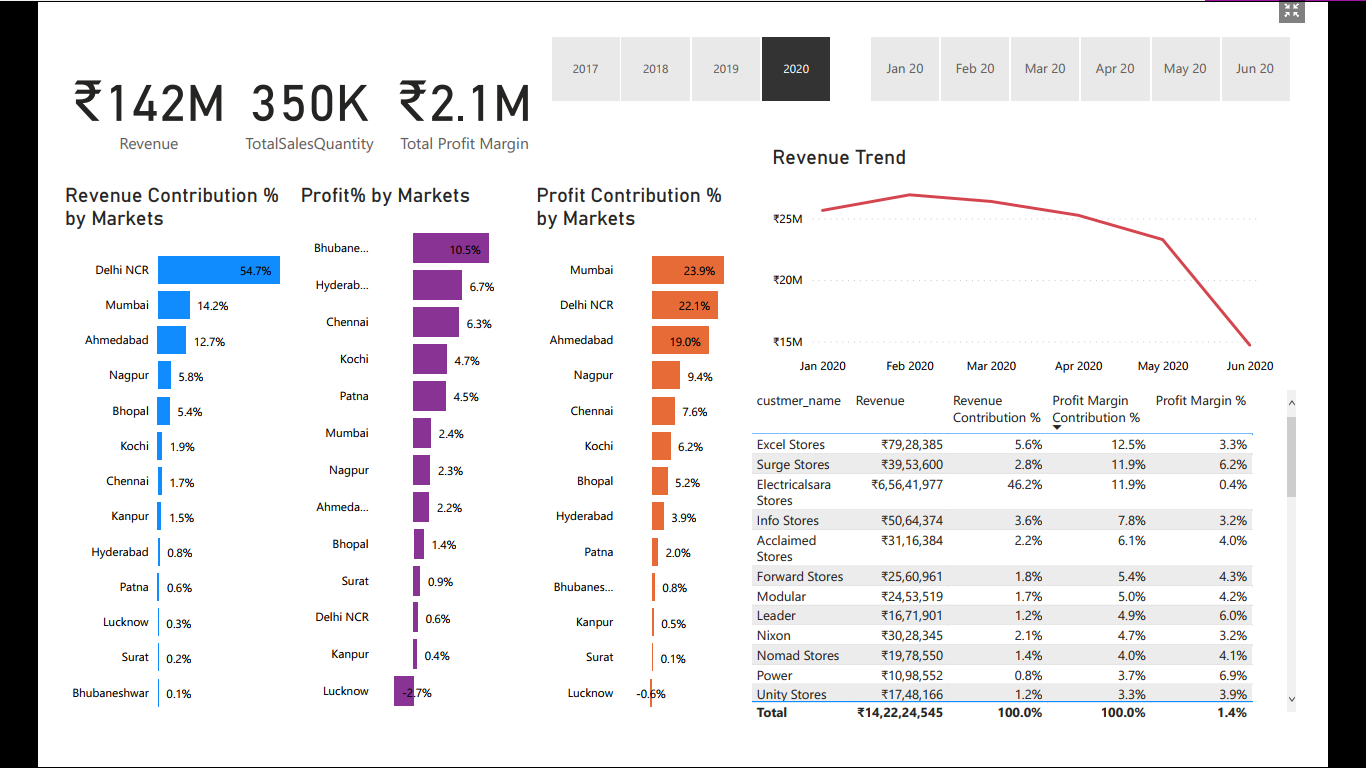

What the dashboard file says about the page in this screenshot:
{"tool":"powerbi","page":{"name":"Profit Margin Insights","canvas":[1280,720],"ordinal":1},"visuals":[{"type":"card","fields":{"Values":["BaseMeasures.Revenue"]},"box":[0,0,194.8,155.8],"z":0},{"type":"card","fields":{"Values":["BaseMeasures.TotalSalesQuantity"]},"box":[184.7,0,151.5,155.8],"z":1000},{"type":"barChart","title":"Profit% by Markets","fields":{"Category":["sales markets.markets_name"],"Y":["BaseMeasures.Profit Margin %"]},"box":[246.7,155.8,233.7,551.2],"z":2000},{"type":"barChart","title":"Profit Contribution % by Markets","fields":{"Category":["sales markets.markets_name"],"Y":["BaseMeasures.Profit Margin Contribution"]},"box":[486.3,155.8,217.9,551.2],"z":3000},{"type":"tableEx","title":"Top 5 Customers","fields":{"Values":["sales customers.custmer_name","BaseMeasures.Revenue","BaseMeasures.Revenue Contribution %","BaseMeasures.Profit Margin Contribution","BaseMeasures.Profit Margin %"]},"box":[704.1,360.7,564.2,346.3],"z":4000},{"type":"lineChart","title":"Revenue Trend","fields":{"Y":["BaseMeasures.Revenue"],"Category":["sales date.cy_date"]},"box":[725.8,116.9,519.4,242.4],"z":5000},{"type":"slicer","fields":{"Values":["sales date.year"]},"box":[480.5,0,333.3,77.9],"z":6000},{"type":"slicer","fields":{"Values":["sales date.cy_date"]},"box":[805.1,0,474.7,77.9],"z":7000},{"type":"card","fields":{"Values":["BaseMeasures.Total Profit Margin"]},"box":[336.2,0,164.5,155.8],"z":8000},{"type":"barChart","title":"Revenue Contribution % by Markets","fields":{"Category":["sales markets.markets_name"],"Y":["BaseMeasures.Revenue Contribution %"]},"box":[7.2,155.8,239.5,551.2],"z":9000}]}

Visuals, with their boxes in screenshot pixels (x1, y1, x2, y2), scaled from the page's 1280x720 canvas onto the 1366x768 screenshot:
card - BaseMeasures.Revenue: (left=0, top=0, right=208, bottom=166)
card - BaseMeasures.TotalSalesQuantity: (left=197, top=0, right=359, bottom=166)
"Profit% by Markets" barChart: (left=263, top=166, right=513, bottom=754)
"Profit Contribution % by Markets" barChart: (left=519, top=166, right=752, bottom=754)
"Top 5 Customers" tableEx: (left=751, top=385, right=1354, bottom=754)
"Revenue Trend" lineChart: (left=775, top=125, right=1329, bottom=383)
slicer - sales date.year: (left=513, top=0, right=868, bottom=83)
slicer - sales date.cy_date: (left=859, top=0, right=1365, bottom=83)
card - BaseMeasures.Total Profit Margin: (left=359, top=0, right=534, bottom=166)
"Revenue Contribution % by Markets" barChart: (left=8, top=166, right=263, bottom=754)
